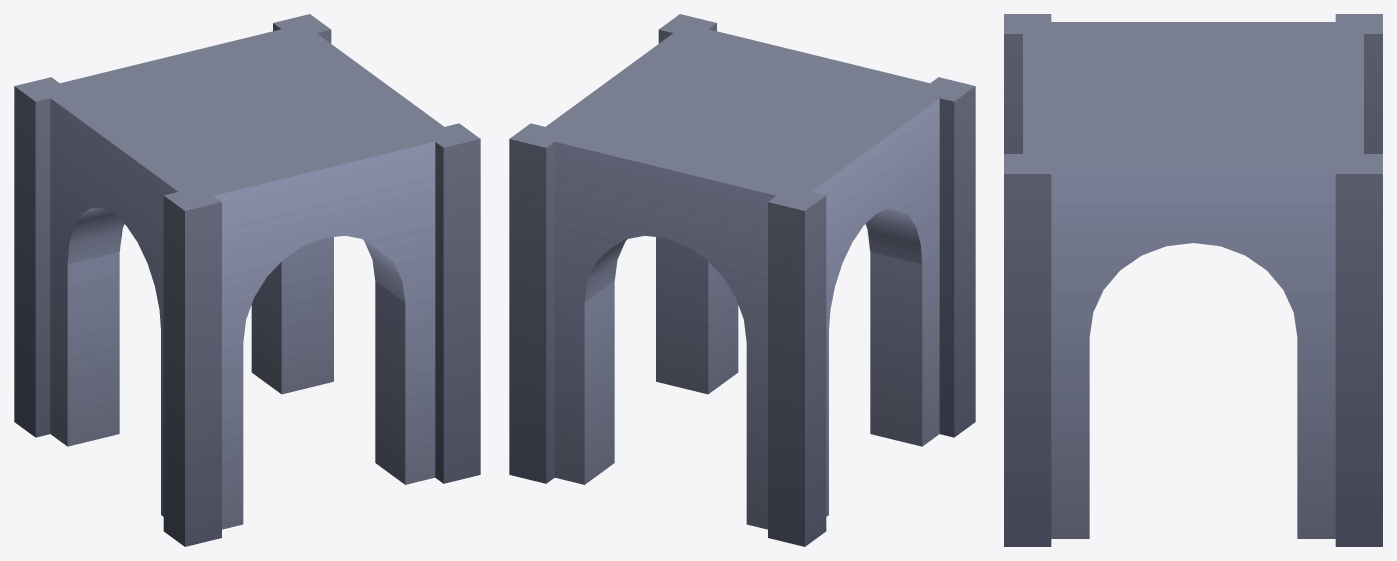
The model's file is tower-square-arch.fbx.
3 views of the same model, side by side, from view 1: azimuth 30°, elevation 25°; view 2: azimuth 150°, elevation 25°; view 3: azimuth 270°, elevation 25° (orthographic). The views are drawn at different scales.
Parts seen in each view (by area): view 1: tower-square-arch; view 2: tower-square-arch; view 3: tower-square-arch.
Boxes of the visible parts, bbox=[...] form: tower-square-arch: bbox=[14, 14, 480, 546]; tower-square-arch: bbox=[509, 14, 975, 546]; tower-square-arch: bbox=[1004, 14, 1382, 546].
Size of the model in its own units: 0.93 by 0.93 by 1.01.
